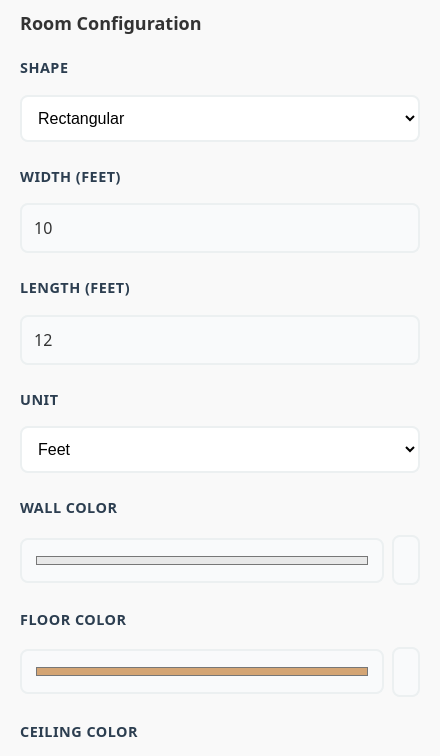
Test: RoomConfigPanel › Dimension validation › displays error for invalid width (too small)
The width and height of the screenshot is (443, 756).
Note: Enter invalid width
Replace the text in the number field labelled "Width (feet)" with "0.5": x=220, y=228 [20,203,420,253]
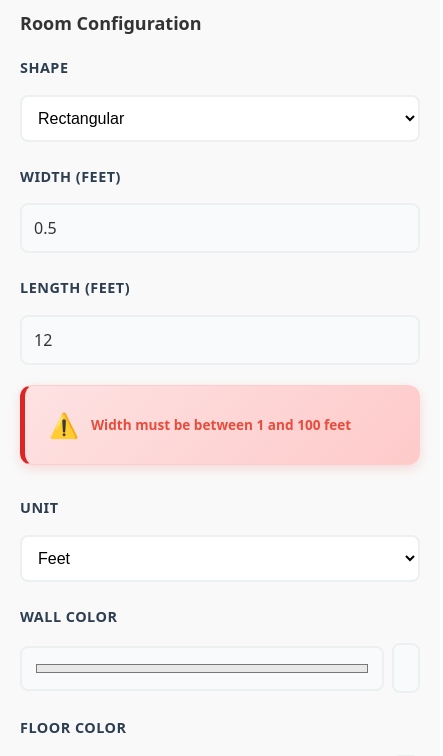
Expected: the message reads "Width must be between 1 and 100 feet", [91,415,351,434]
